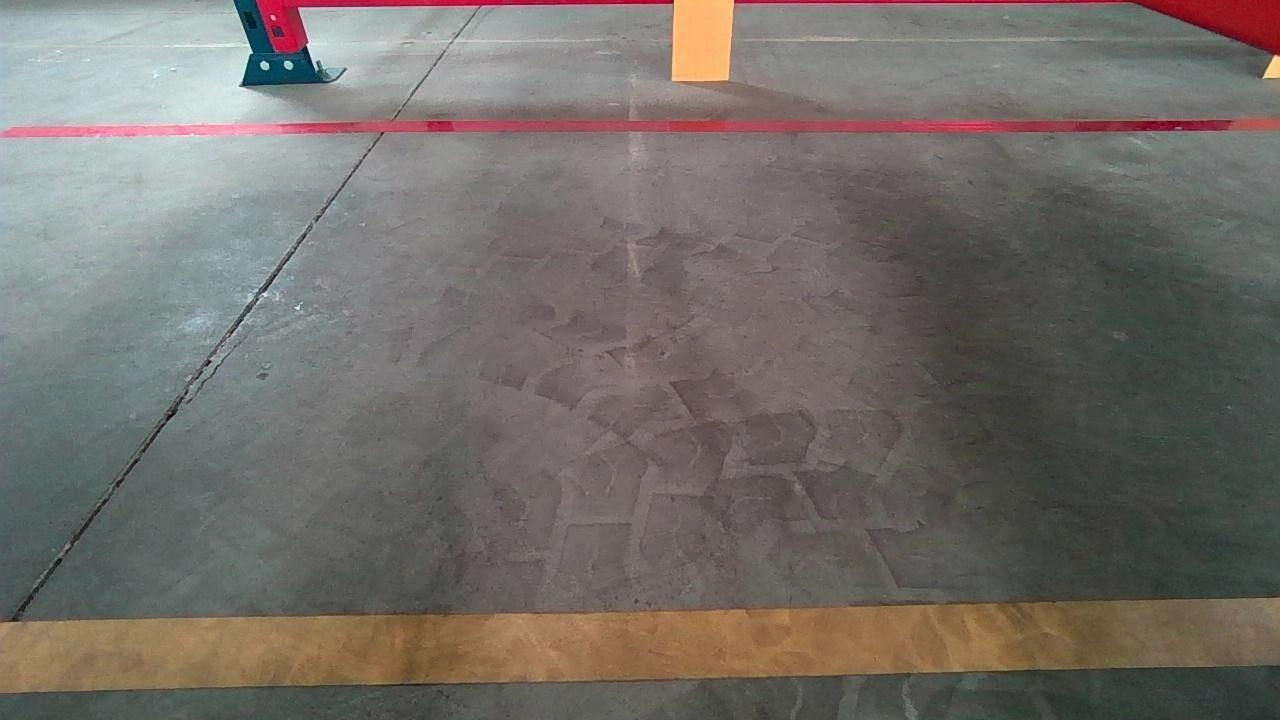orange_strip: (672, 0, 733, 80)
red_line: (0, 118, 1280, 137)
